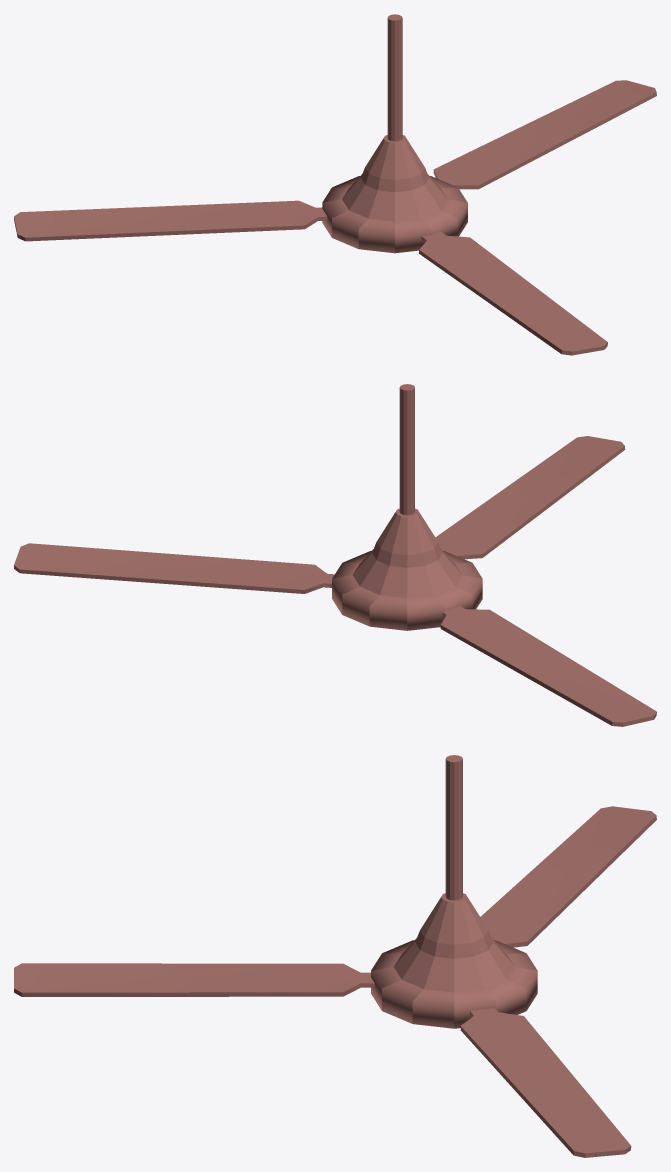
File: Fan.fbx
3 renders of one model, top to bottom at view 1: azimuth 30°, elevation 25°; view 2: azimuth 150°, elevation 25°; view 3: azimuth 270°, elevation 25°, orthographic. The views are drawn at different scales.
Parts seen in each view (by area): view 1: Fan1; view 2: Fan1; view 3: Fan1.
Boxes of the visible parts, <box> form: Fan1: <box>14,14,656,355</box>; Fan1: <box>14,384,656,726</box>; Fan1: <box>14,755,656,1157</box>.
Bounding box in the file's own units: 294 × 94.82 × 228.
